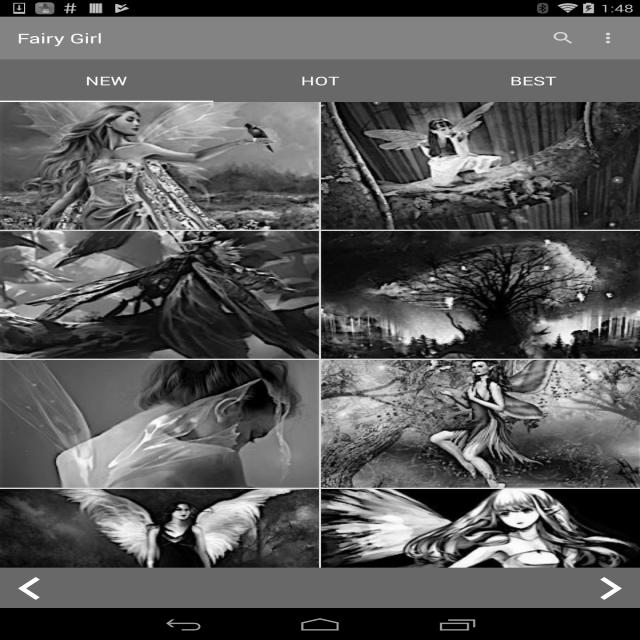ImageView: (0, 102, 320, 230), (0, 231, 320, 359), (0, 360, 320, 488), (0, 489, 320, 617), (321, 102, 640, 230), (321, 231, 640, 359), (321, 360, 640, 488), (321, 489, 640, 617), (538, 22, 588, 54), (0, 574, 57, 601), (583, 574, 640, 601), (589, 22, 631, 54)
TextView: (17, 29, 102, 47), (510, 72, 556, 89), (86, 72, 128, 89), (301, 72, 339, 89)
